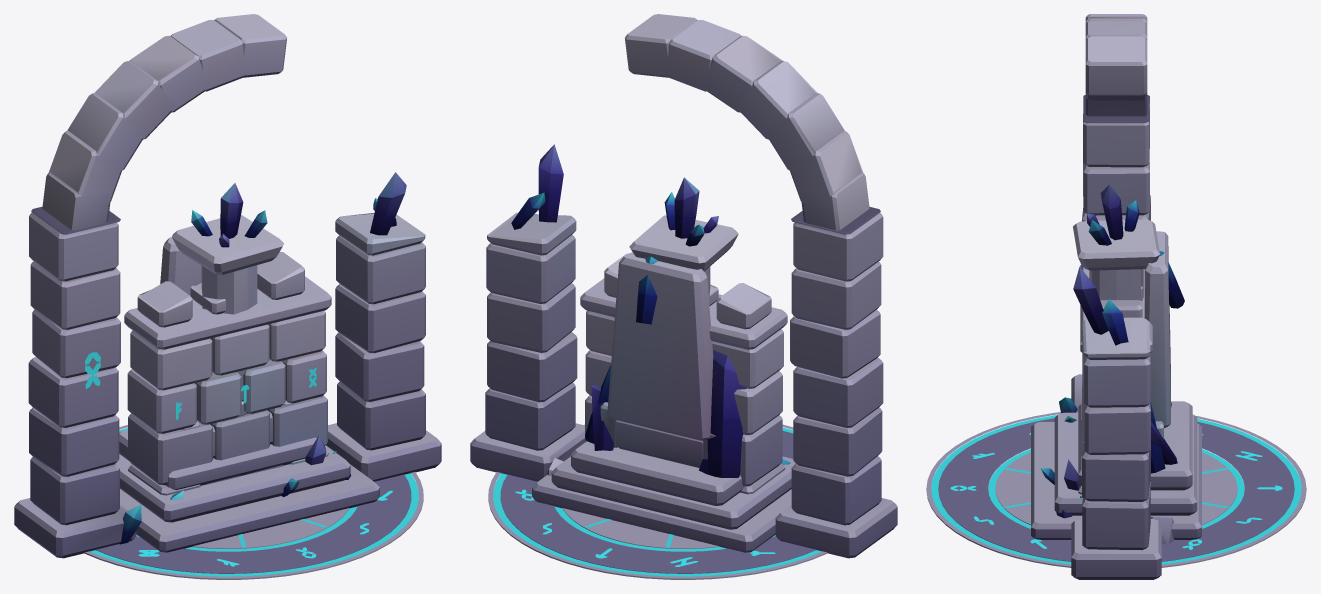
Rendered from env_boss.glb.
The picture shows the model from 3 angles, left to right: view 1: azimuth 30°, elevation 25°; view 2: azimuth 150°, elevation 25°; view 3: azimuth 270°, elevation 25°; orthographic projection. The views are drawn at different scales.
Visible parts, largest first — view 1: ring_arch, ring_wall, crystal_throne, rune_floor, ring_pillar; view 2: ring_arch, crystal_throne, rune_floor, ring_wall, ring_pillar; view 3: ring_arch, rune_floor, crystal_throne, ring_pillar, ring_wall.
Boxes of the visible parts, left/top/right/bottom form: ring_arch: left=14, top=14, right=441, bottom=558; ring_wall: left=124, top=251, right=336, bottom=495; crystal_throne: left=115, top=237, right=379, bottom=552; rune_floor: left=84, top=425, right=423, bottom=579; ring_pillar: left=172, top=183, right=283, bottom=416; ring_arch: left=470, top=14, right=897, bottom=558; crystal_throne: left=532, top=252, right=795, bottom=552; rune_floor: left=488, top=424, right=827, bottom=579; ring_wall: left=580, top=253, right=787, bottom=494; ring_pillar: left=629, top=177, right=738, bottom=296; ring_arch: left=1059, top=14, right=1174, bottom=579; rune_floor: left=926, top=412, right=1306, bottom=567; crystal_throne: left=1031, top=231, right=1201, bottom=539; ring_pillar: left=1073, top=184, right=1159, bottom=300; ring_wall: left=1064, top=265, right=1152, bottom=497.
Size of the model in its own units: 9.1 by 10.61 by 8.
